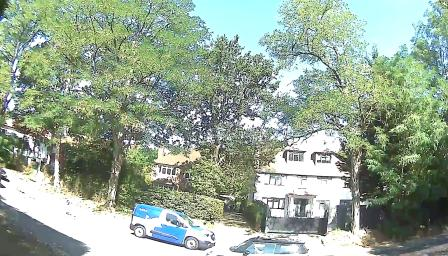Cars: (132, 196, 218, 248), (197, 227, 322, 256)
